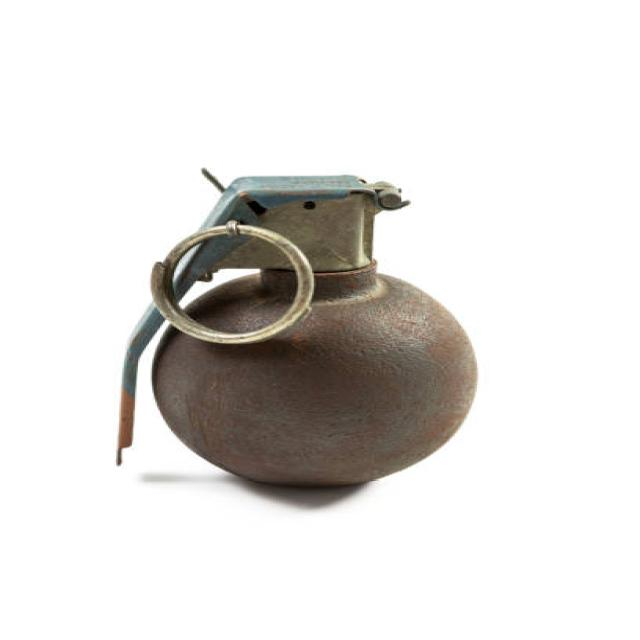grenade: (112, 161, 487, 493)
